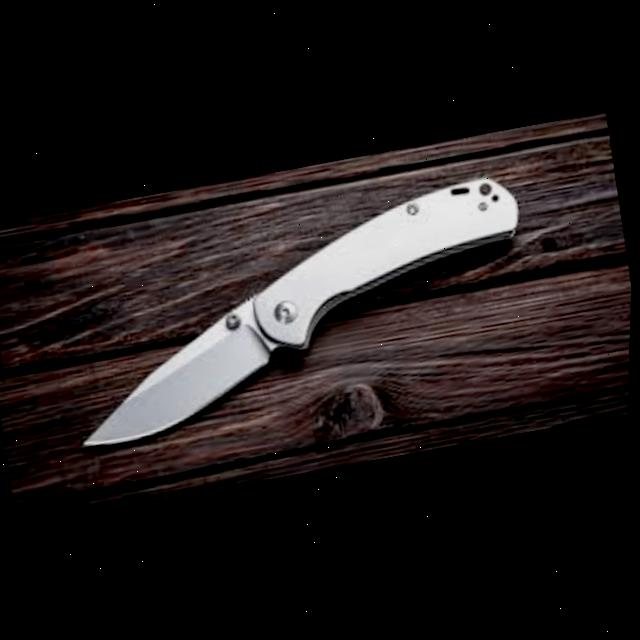Knife: (51, 171, 547, 449)
